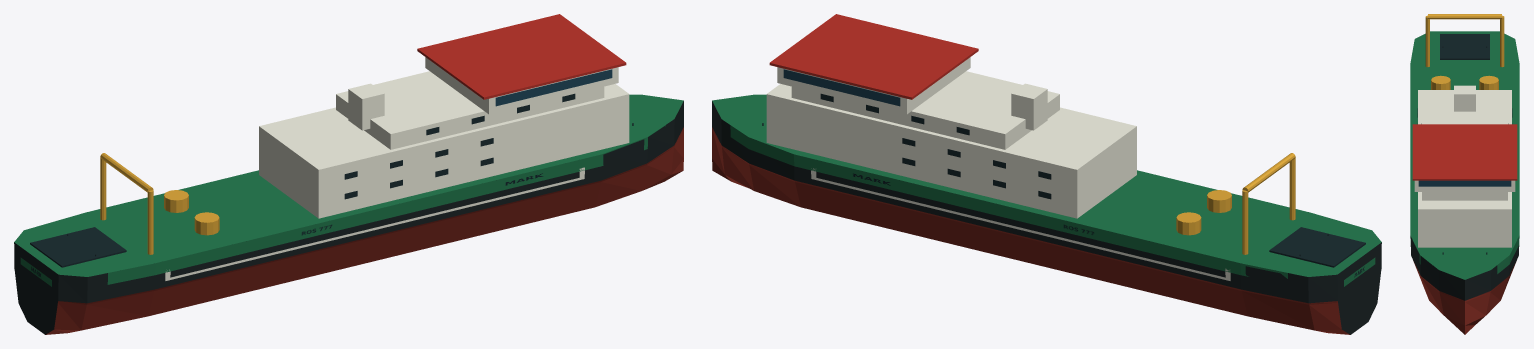
The model's file is ship.dae.
3 renders of one model, left to right at view 1: azimuth 30°, elevation 25°; view 2: azimuth 150°, elevation 25°; view 3: azimuth 270°, elevation 25°, orthographic. The views are drawn at different scales.
Parts seen in each view (by area): view 1: Ship; view 2: Ship; view 3: Ship.
Part boxes in pixels (bbox=[...]): Ship: bbox=[14, 14, 683, 334]; Ship: bbox=[712, 14, 1381, 334]; Ship: bbox=[1410, 14, 1519, 334].
Size of the model in its own units: 86.1 by 16 by 19.9.
Materials: 1 (1 with a texture image).
